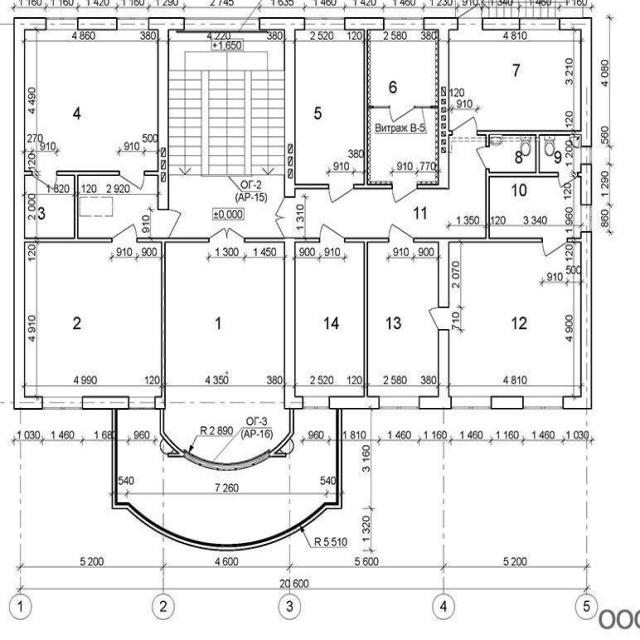Bathrooms: (490, 136, 535, 172), (541, 137, 580, 172)
Corridors: (118, 410, 336, 542), (164, 243, 289, 462), (296, 137, 485, 237), (170, 180, 283, 237), (490, 178, 580, 236), (371, 110, 436, 181), (80, 178, 157, 236), (26, 177, 73, 236)
Doors: (273, 197, 296, 238), (158, 208, 183, 237), (208, 224, 245, 243), (328, 182, 355, 206), (540, 236, 568, 259), (319, 221, 345, 245), (452, 114, 480, 136), (392, 183, 418, 205), (31, 170, 58, 191), (112, 221, 139, 242), (387, 222, 414, 243), (120, 170, 145, 191), (427, 306, 449, 329), (389, 105, 415, 124), (558, 172, 579, 190), (474, 146, 490, 169)
LBwalls: (13, 16, 46, 411), (148, 16, 185, 211), (424, 16, 459, 190), (562, 231, 593, 410), (560, 16, 593, 147), (284, 237, 305, 410), (419, 328, 453, 410), (284, 30, 296, 198), (438, 237, 450, 308), (329, 396, 380, 410), (82, 396, 129, 411), (259, 17, 306, 31), (77, 16, 118, 31), (482, 16, 520, 30), (345, 16, 384, 29), (580, 164, 592, 205), (492, 396, 524, 410), (155, 396, 166, 409)
Offices: (25, 244, 160, 396), (450, 243, 580, 395), (26, 32, 157, 169), (450, 31, 581, 130), (370, 244, 438, 396), (295, 244, 362, 396), (297, 32, 363, 182), (371, 31, 436, 104)
Stairs: (170, 31, 284, 179)
Walls: (111, 408, 343, 553), (449, 130, 582, 244), (135, 237, 212, 396), (158, 409, 296, 472), (344, 237, 389, 396), (24, 170, 120, 243), (353, 31, 394, 190), (294, 183, 329, 189), (244, 238, 285, 243), (295, 237, 321, 243), (368, 104, 389, 110), (417, 184, 439, 189), (415, 105, 438, 109), (414, 238, 437, 242), (144, 170, 158, 176), (567, 237, 580, 243), (25, 170, 32, 177), (578, 172, 581, 177)
Windows: (185, 18, 259, 32), (452, 396, 491, 410), (380, 396, 419, 410), (43, 396, 82, 410), (385, 16, 423, 30), (521, 18, 559, 31), (306, 18, 344, 30), (523, 397, 563, 408), (46, 17, 77, 30), (118, 18, 149, 30), (304, 396, 329, 410), (129, 397, 154, 410), (580, 205, 592, 231), (459, 18, 481, 30), (580, 146, 592, 164)
